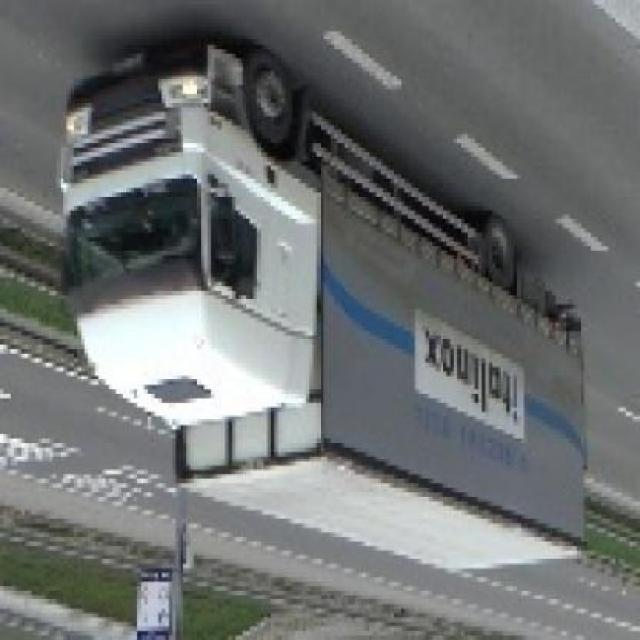truck: (54, 41, 585, 583)
